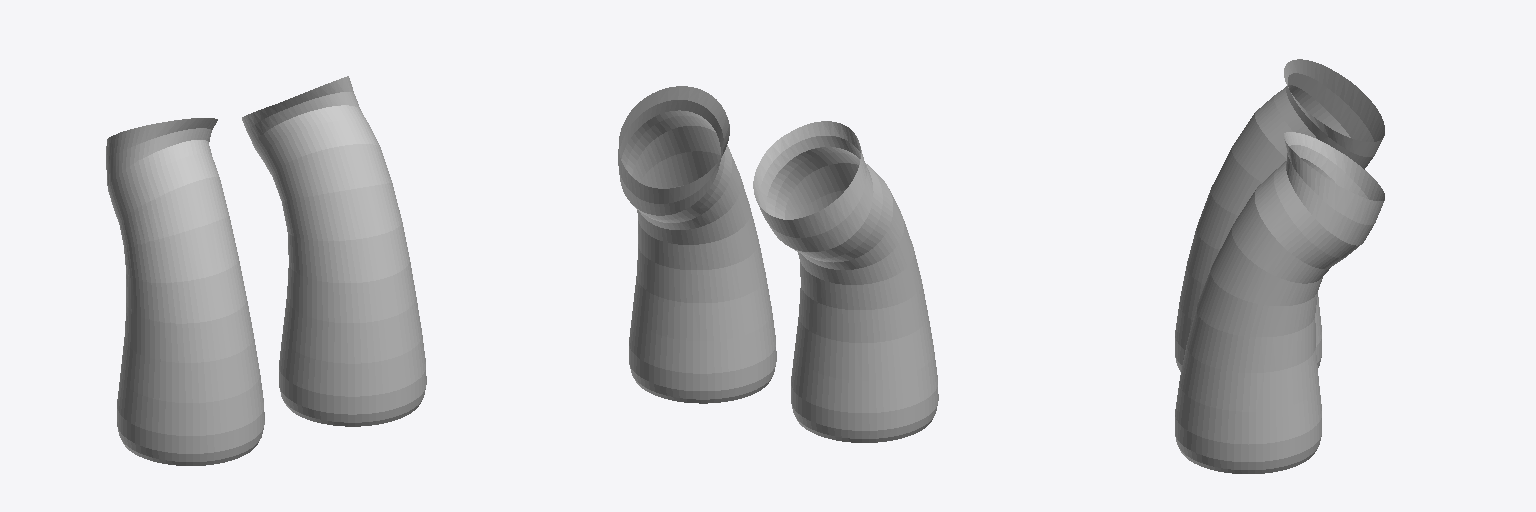
File: B Socks.obj
3 views of the same model, side by side, from view 1: azimuth 30°, elevation 25°; view 2: azimuth 150°, elevation 25°; view 3: azimuth 270°, elevation 25° (orthographic).
Visible parts, largest first — view 1: Cylinder.001_Cylinder.002; view 2: Cylinder.001_Cylinder.002; view 3: Cylinder.001_Cylinder.002.
Part boxes in pixels (x1,y1,x2,y2): Cylinder.001_Cylinder.002: (106, 76, 426, 465); Cylinder.001_Cylinder.002: (618, 86, 938, 442); Cylinder.001_Cylinder.002: (1175, 59, 1384, 473).
Bounding box in the file's own units: 1.14 × 1.14 × 0.7157.